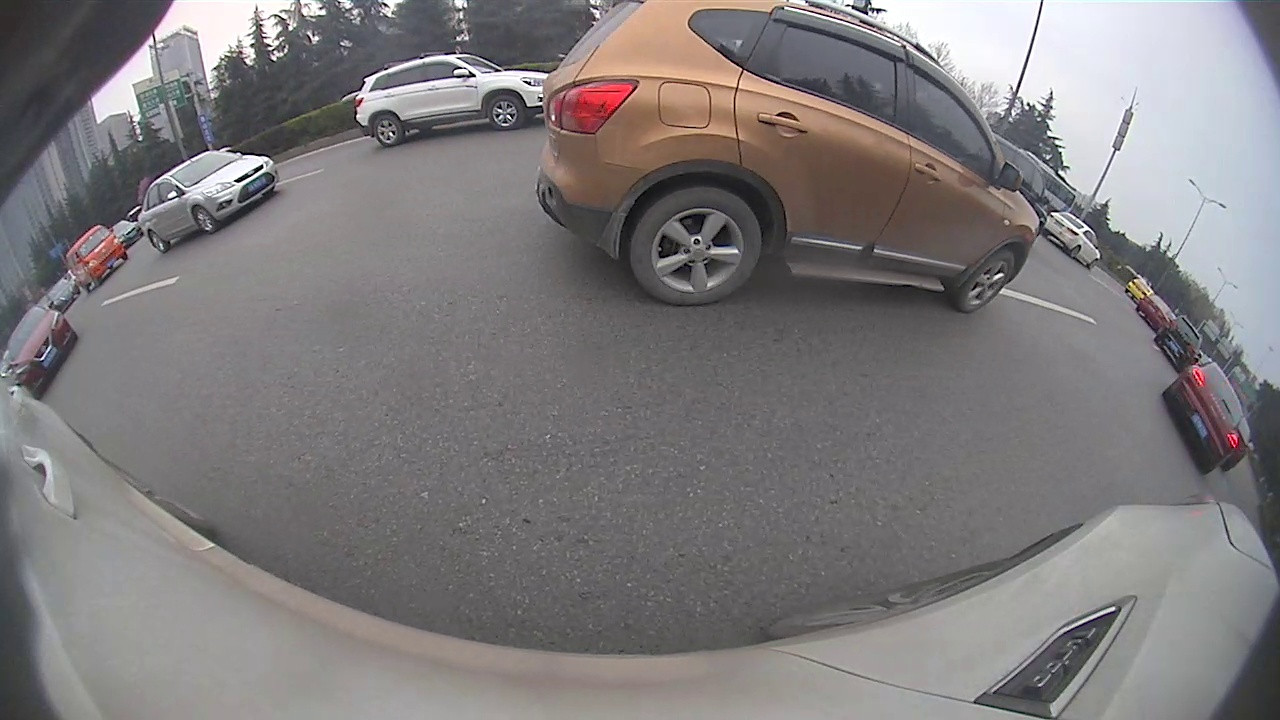car: (533, 1, 1042, 316), (353, 51, 550, 149), (137, 149, 280, 255), (1160, 362, 1245, 475), (2, 306, 80, 400), (63, 223, 128, 293), (1045, 210, 1103, 271), (1154, 317, 1204, 375), (1136, 292, 1173, 333), (1126, 279, 1149, 301)
front: (952, 247, 1015, 316), (484, 98, 523, 133), (192, 207, 217, 236)
rear: (627, 182, 765, 307), (372, 113, 403, 149), (148, 230, 170, 254), (1068, 246, 1082, 262)
